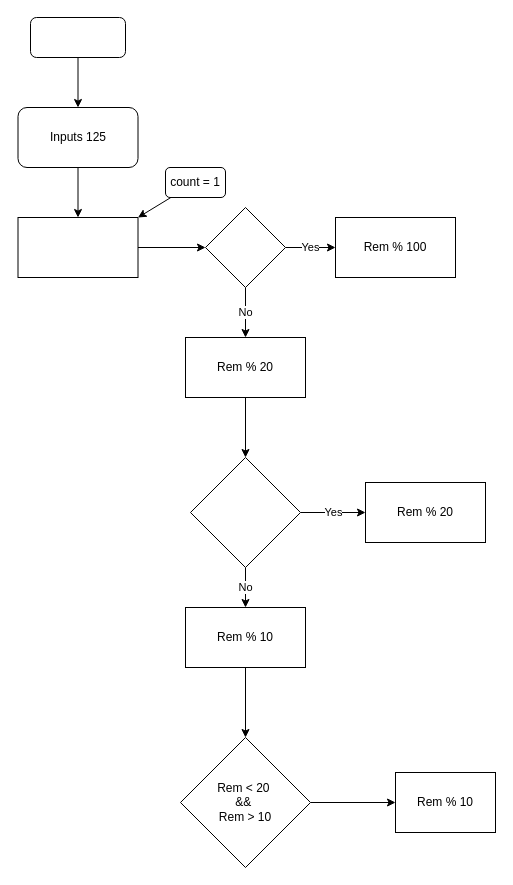
Some shapes in this 513 by 885 pixel diagram are drawn without their labels. The shapes that lost their labels are listed below. From the top down, each one's box as (x1, y1, x2, y2) in pixels, then its label:
(30, 16, 126, 58): Start
(17, 216, 138, 278): 125 % 100 Rem = 25
(204, 206, 286, 288): Rem > 100
(190, 456, 300, 568): Rem > 20 && Rem < 100
